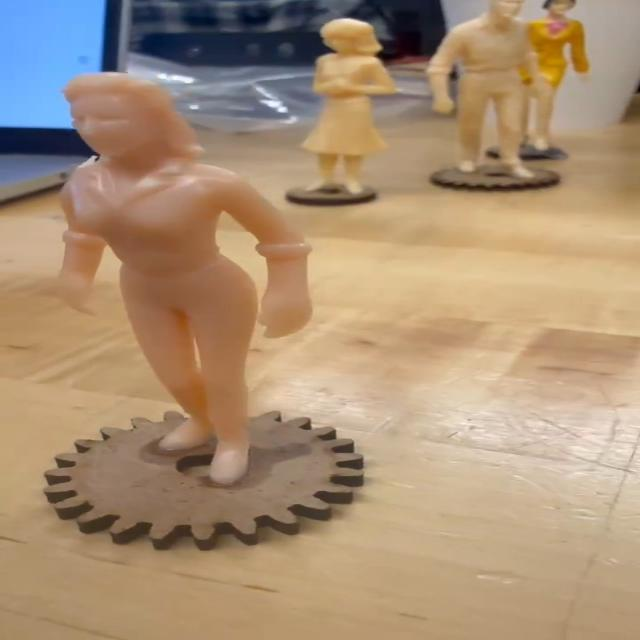Unauthorized: (56, 74, 308, 487)
